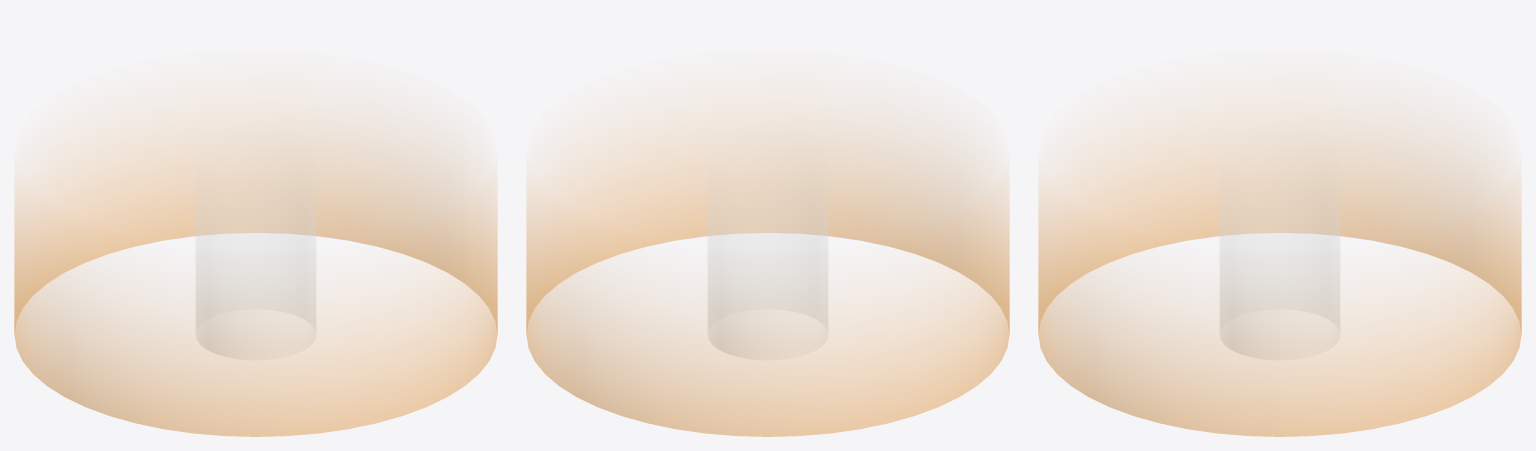
The model's file is fx_pillar_arcana.glb.
3 renders of one model, left to right at view 1: azimuth 30°, elevation 25°; view 2: azimuth 150°, elevation 25°; view 3: azimuth 270°, elevation 25°, orthographic.
Visible parts, largest first — view 1: fx_pillar_arcana; view 2: fx_pillar_arcana; view 3: fx_pillar_arcana.
Boxes of the visible parts, left/top/right/bottom form: fx_pillar_arcana: left=14, top=107, right=497, bottom=436; fx_pillar_arcana: left=526, top=107, right=1009, bottom=436; fx_pillar_arcana: left=1038, top=107, right=1521, bottom=436.
Size of the model in its own units: 2 by 1 by 2.
Materials: 2 (2 with a texture image).
